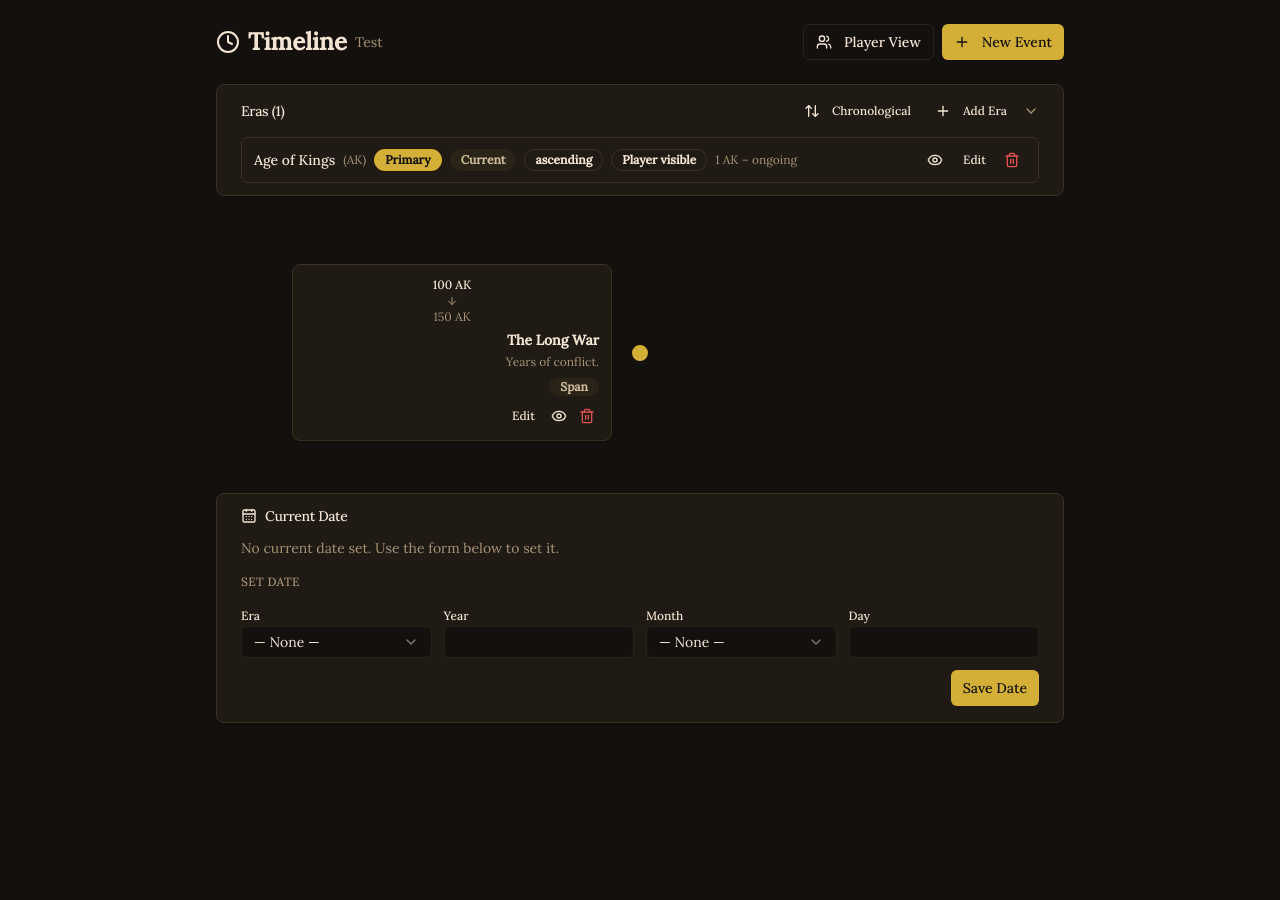
Test: TimelinePage — Edit dialog pre-fills end date fields (regression: stale server bug) › Edit dialog pre-fills end_year from span event
The width and height of the screenshot is (1280, 900).
Expected: the text "The Long War" is shown, [507,331,599,349]
Click the button "Edit" below "Span" at x=524, y=416, box [504,404,543,428]
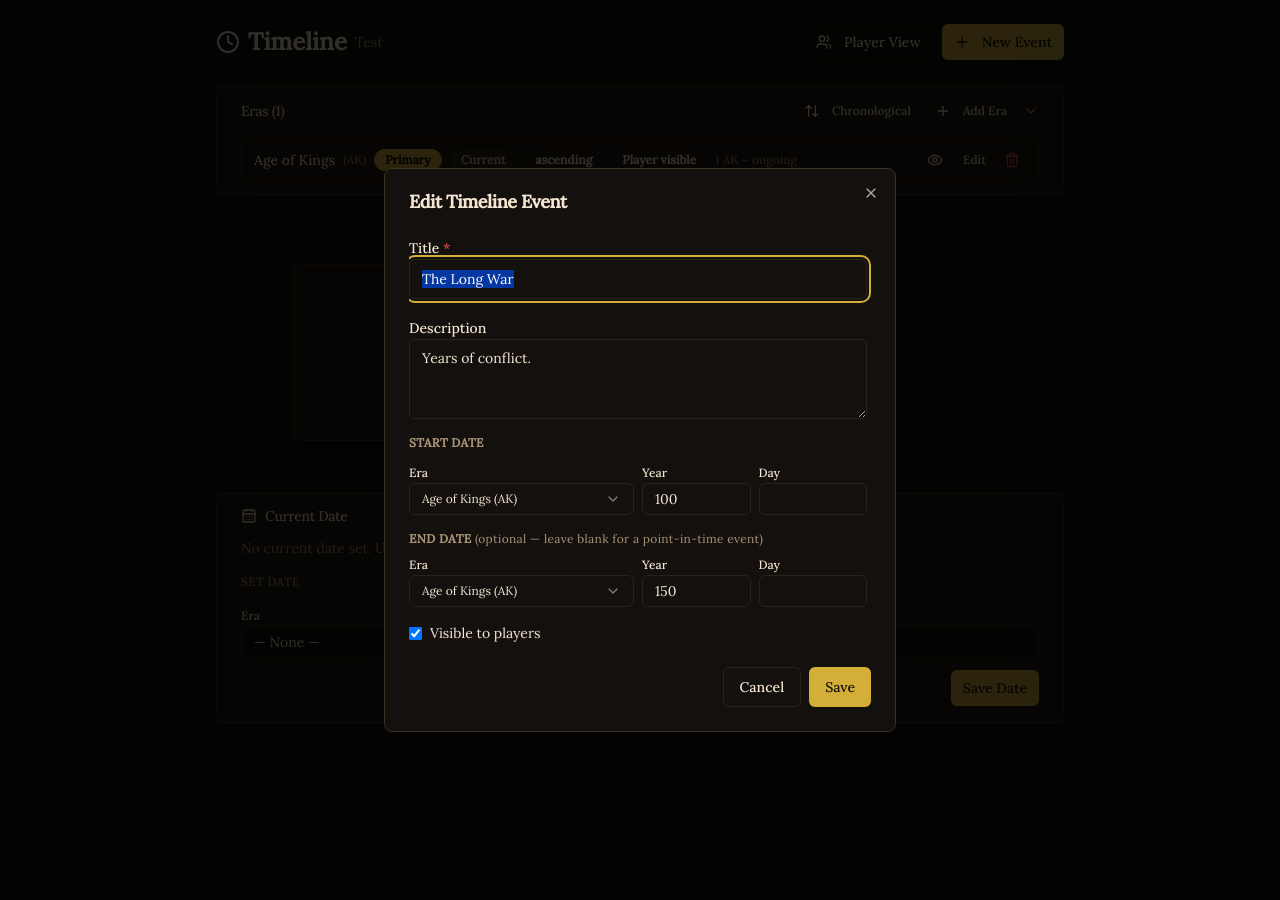
Expected: the heading "Edit Timeline Event" is shown, [409,190,567,213]
Expected: the 4th field showing "150" is shown, [642,575,750,607]
